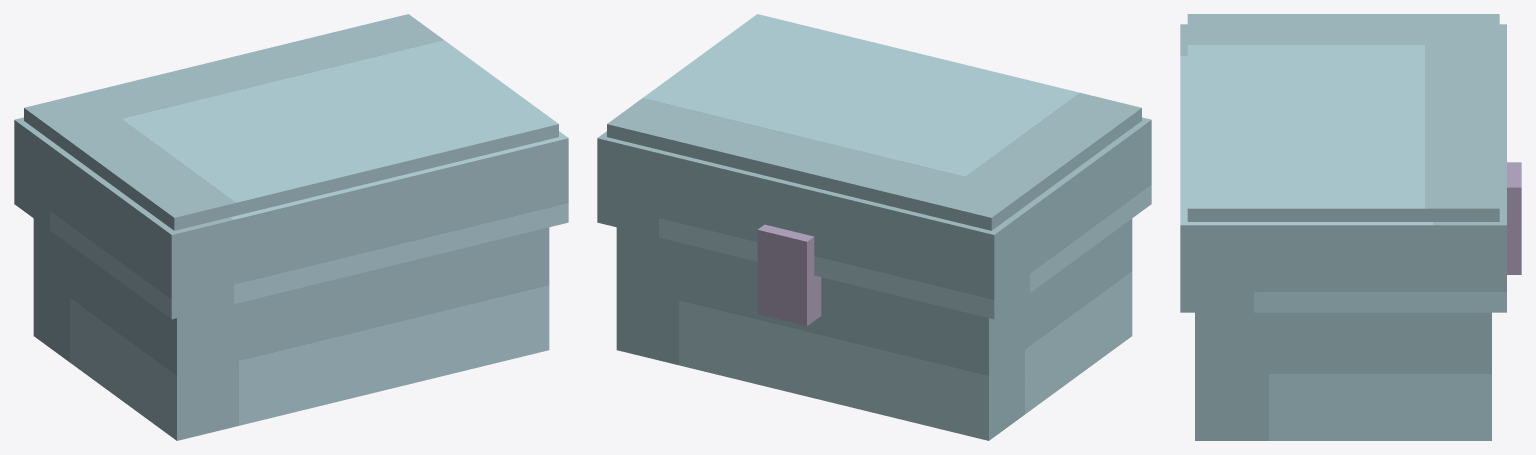
The model's file is IAShopChestClosed.gltf.
3 views of the same model, side by side, from view 1: azimuth 30°, elevation 25°; view 2: azimuth 150°, elevation 25°; view 3: azimuth 270°, elevation 25° (orthographic). The views are drawn at different scales.
Parts seen in each view (by area): view 1: 35537e47-b1a4-7860-8c4f-06f47b93dfc7, db227c90-b457-0047-380e-946e9ef17cd7, df0d8bd0-1d3f-83d3-ddca-d650381cd625; view 2: 35537e47-b1a4-7860-8c4f-06f47b93dfc7, db227c90-b457-0047-380e-946e9ef17cd7, df0d8bd0-1d3f-83d3-ddca-d650381cd625, ebaf4a0f-1fcf-09b6-4623-2fe983561b47; view 3: 35537e47-b1a4-7860-8c4f-06f47b93dfc7, db227c90-b457-0047-380e-946e9ef17cd7, df0d8bd0-1d3f-83d3-ddca-d650381cd625, ebaf4a0f-1fcf-09b6-4623-2fe983561b47.
Part boxes in pixels (<box>): 35537e47-b1a4-7860-8c4f-06f47b93dfc7: <box>24,14,558,230</box>; db227c90-b457-0047-380e-946e9ef17cd7: <box>33,218,549,440</box>; df0d8bd0-1d3f-83d3-ddca-d650381cd625: <box>14,117,568,319</box>; 35537e47-b1a4-7860-8c4f-06f47b93dfc7: <box>607,14,1141,230</box>; db227c90-b457-0047-380e-946e9ef17cd7: <box>616,218,1132,440</box>; df0d8bd0-1d3f-83d3-ddca-d650381cd625: <box>597,117,1151,319</box>; ebaf4a0f-1fcf-09b6-4623-2fe983561b47: <box>757,224,821,325</box>; 35537e47-b1a4-7860-8c4f-06f47b93dfc7: <box>1187,14,1499,221</box>; db227c90-b457-0047-380e-946e9ef17cd7: <box>1195,312,1491,440</box>; df0d8bd0-1d3f-83d3-ddca-d650381cd625: <box>1180,24,1506,312</box>; ebaf4a0f-1fcf-09b6-4623-2fe983561b47: <box>1507,162,1521,274</box>.
Bounding box in the file's own units: 6.4 × 3.5 × 4.6.
2 materials, 2 textured.
